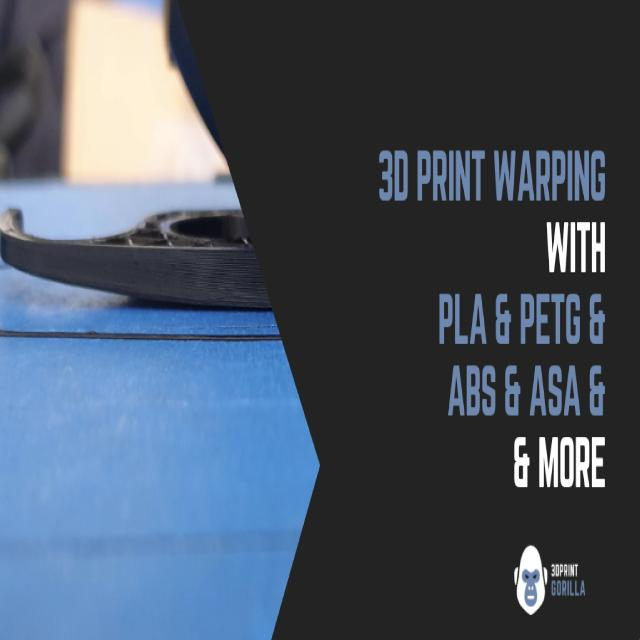Warping: (6, 247, 168, 303)
